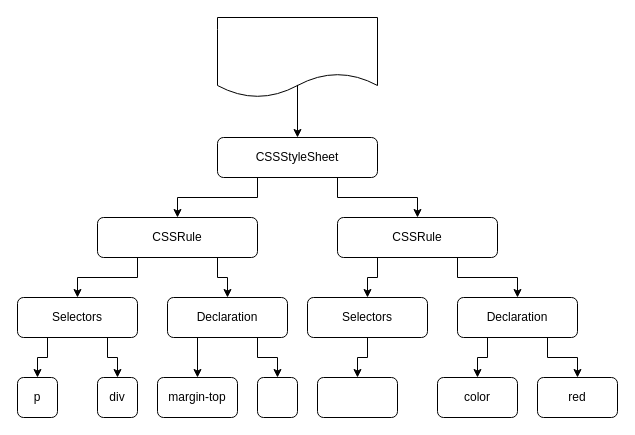
Image size: 635x435. Some labels were removed from this diagram. The shapes that lost their labels are listed below. From the top down, each one's box as (x1, y1, x2, y2) in pixels, then its label:
(216, 16, 378, 98): p, div { margin-top: 10px; } .error { color: red; }
(256, 376, 298, 418): 3px
(316, 376, 398, 418): .error
